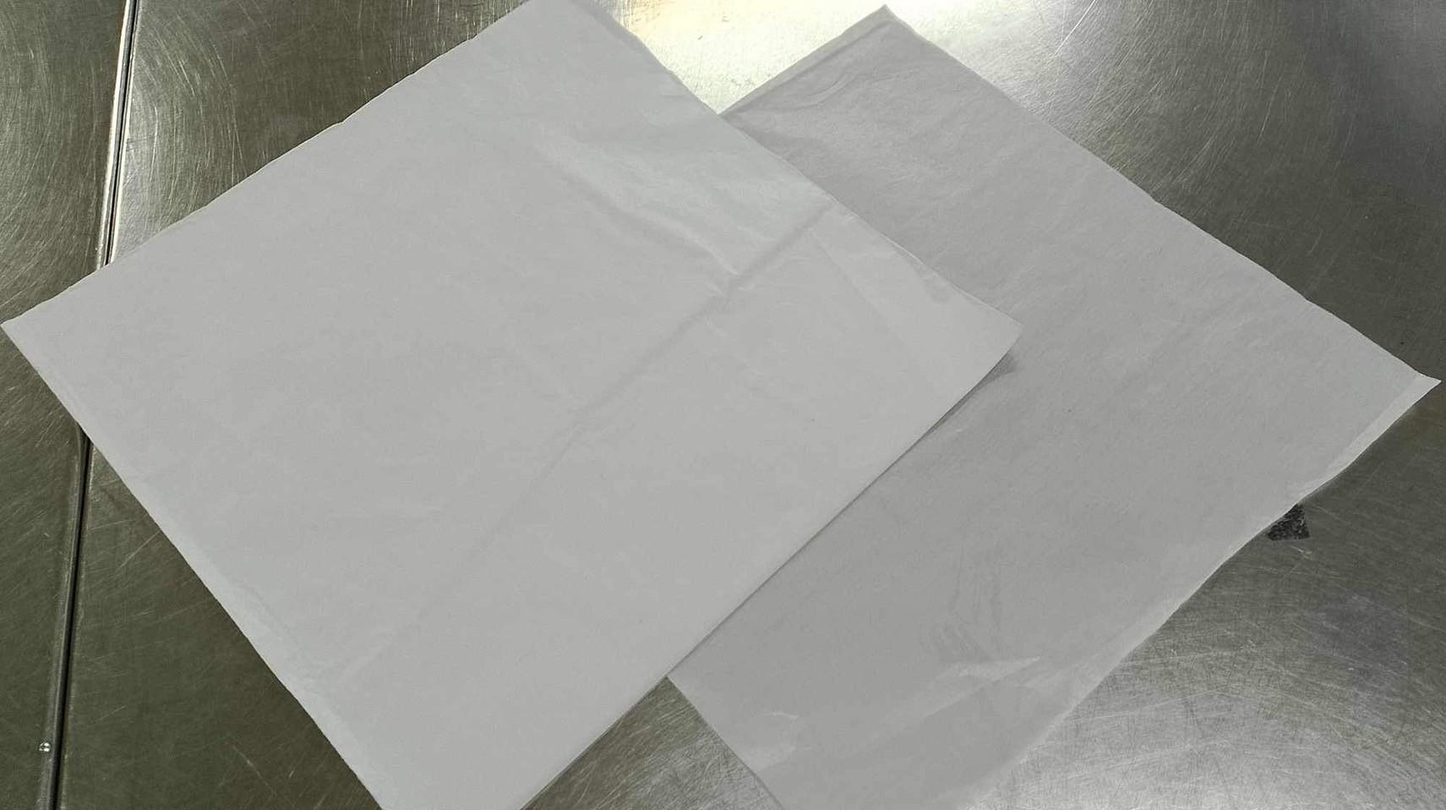Infectious: (2, 0, 1026, 807)
Sharps: (1264, 501, 1311, 542)
